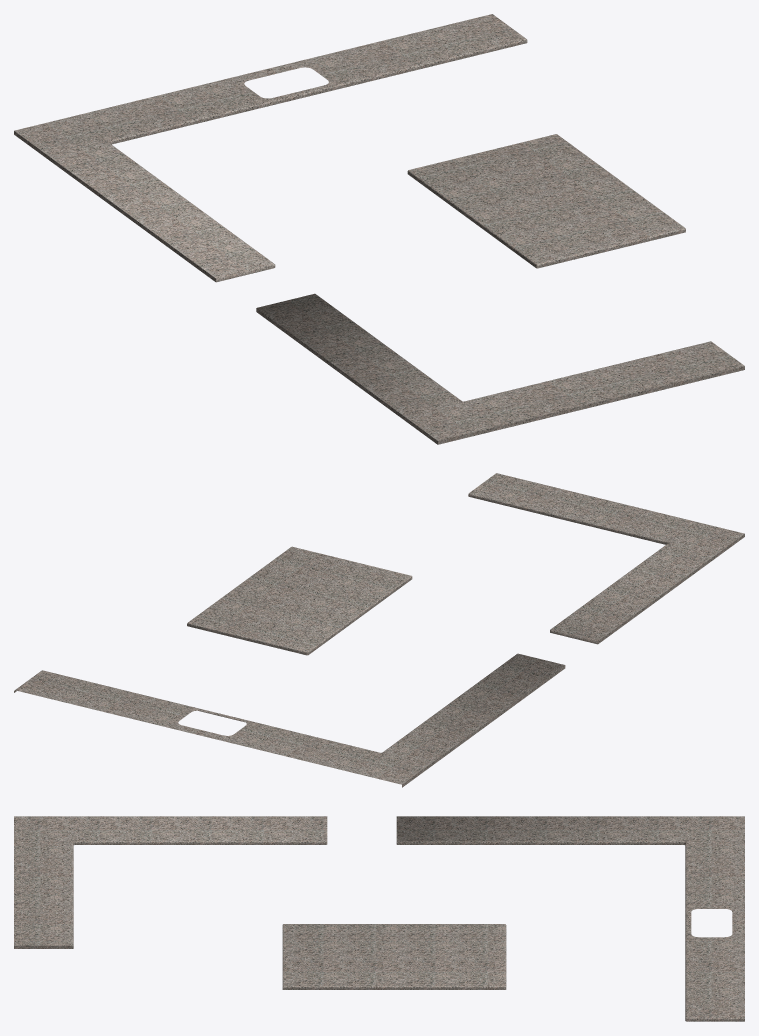
File: 2345_kitchen_Countertops_GraniteCaledonia.gltf
3 renders of one model, top to bottom at view 1: azimuth 30°, elevation 25°; view 2: azimuth 150°, elevation 25°; view 3: azimuth 270°, elevation 25°, orthographic. The views are drawn at different scales.
Visible parts, largest first — view 1: Countertops_Granite Caledonia; view 2: Countertops_Granite Caledonia; view 3: Countertops_Granite Caledonia.
Boxes of the visible parts, x1,y1,x2,y2 form: Countertops_Granite Caledonia: (14,14,744,444); Countertops_Granite Caledonia: (14,473,744,787); Countertops_Granite Caledonia: (14,816,744,1021).
Size of the model in its own units: 6.4 by 0.05 by 9.8.
1 material, 1 textured.
